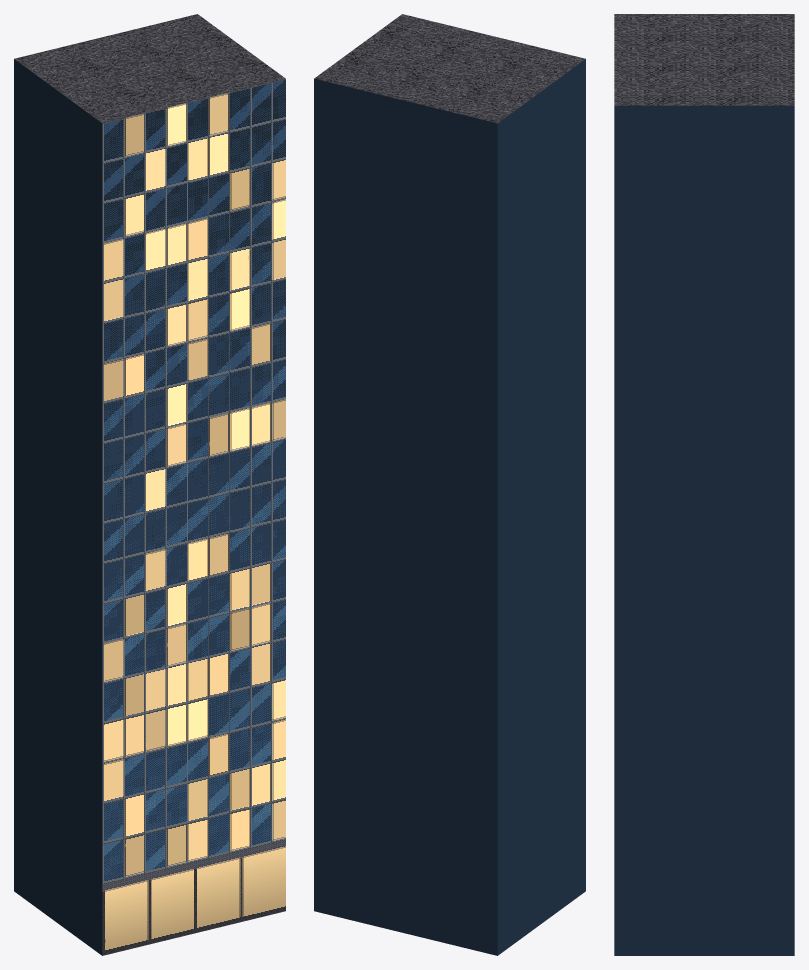
File: Kulisse_17.glb
The picture shows the model from 3 angles, left to right: view 1: azimuth 30°, elevation 25°; view 2: azimuth 150°, elevation 25°; view 3: azimuth 270°, elevation 25°; orthographic projection. The views are drawn at different scales.
Parts seen in each view (by area): view 1: Kulisse_17; view 2: Kulisse_17; view 3: Kulisse_17.
Part boxes in pixels (x1=…): Kulisse_17: x1=14, y1=14, x2=285, y2=955; Kulisse_17: x1=314, y1=14, x2=585, y2=955; Kulisse_17: x1=614, y1=14, x2=794, y2=955.
Bounding box in the file's own units: 12 × 52 × 10.
Materials: 3 (2 with a texture image).
